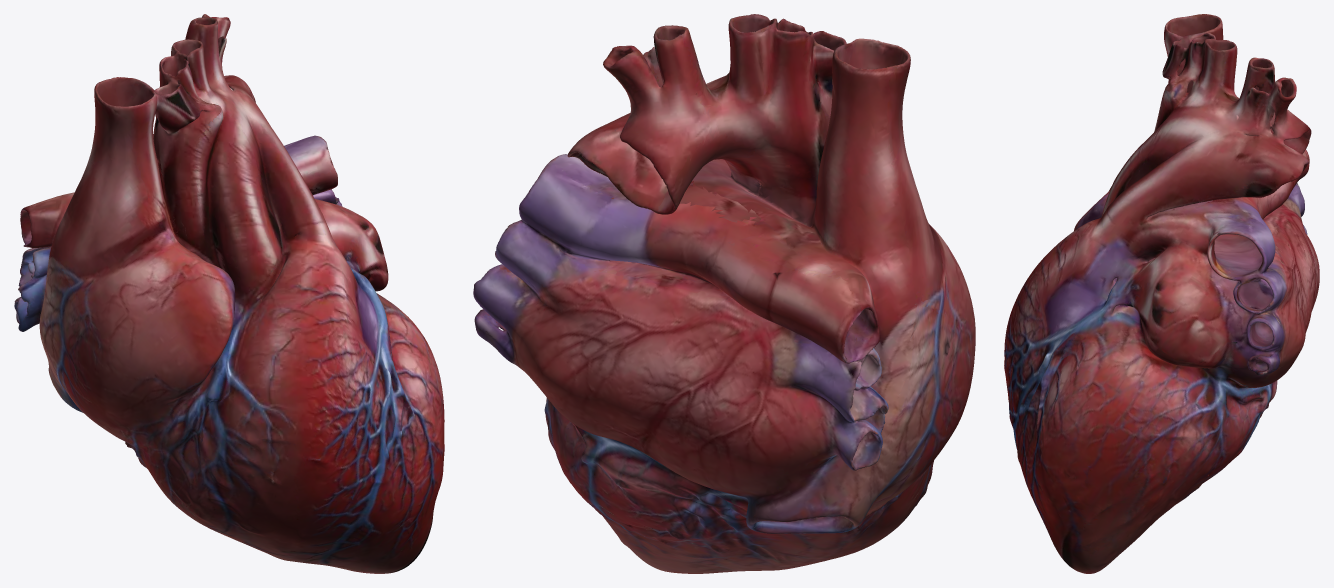
The model's file is heart-circulation.tablet.glb.
3 views of the same model, side by side, from view 1: azimuth 30°, elevation 25°; view 2: azimuth 150°, elevation 25°; view 3: azimuth 270°, elevation 25° (orthographic). The views are drawn at different scales.
Visible parts, largest first — view 1: Mesh1_Mesh1.043_Material.001_0; view 2: Mesh1_Mesh1.043_Material.001_0; view 3: Mesh1_Mesh1.043_Material.001_0.
Boxes of the visible parts, x1,y1,x2,y2 form: Mesh1_Mesh1.043_Material.001_0: (14,14,444,573); Mesh1_Mesh1.043_Material.001_0: (473,14,975,573); Mesh1_Mesh1.043_Material.001_0: (1004,14,1319,573).
Size of the model in its own units: 43807 by 65551 by 40126.
1 material, 1 textured.
